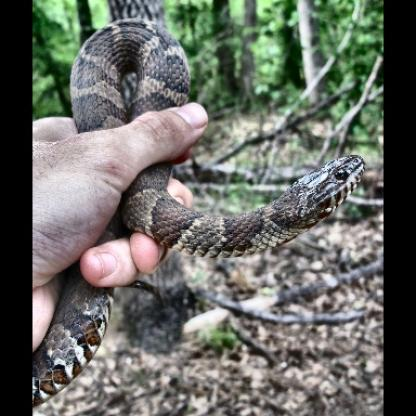Snake: (56, 55, 367, 355)
